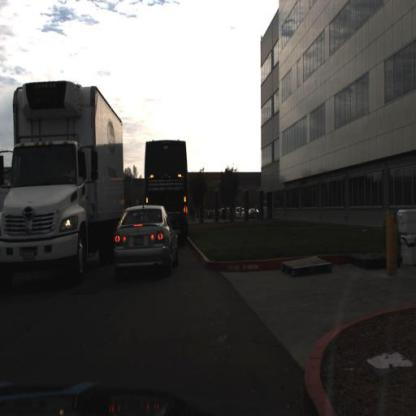car: (113, 203, 179, 272), (233, 200, 248, 219)
truck: (2, 78, 128, 282), (144, 138, 187, 239)
